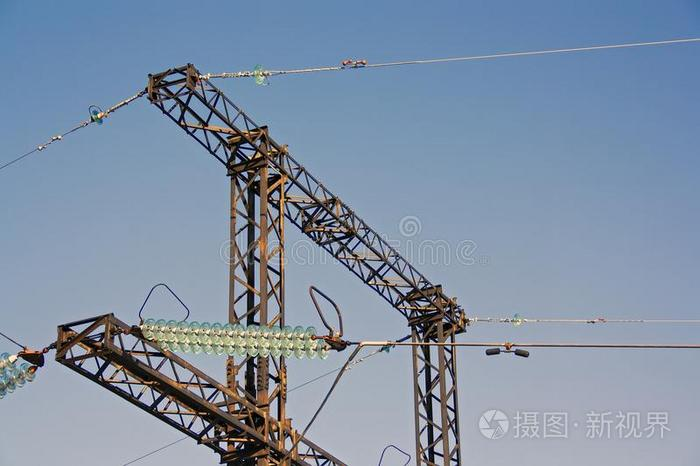insulator: (141, 315, 329, 358), (1, 351, 38, 399)
